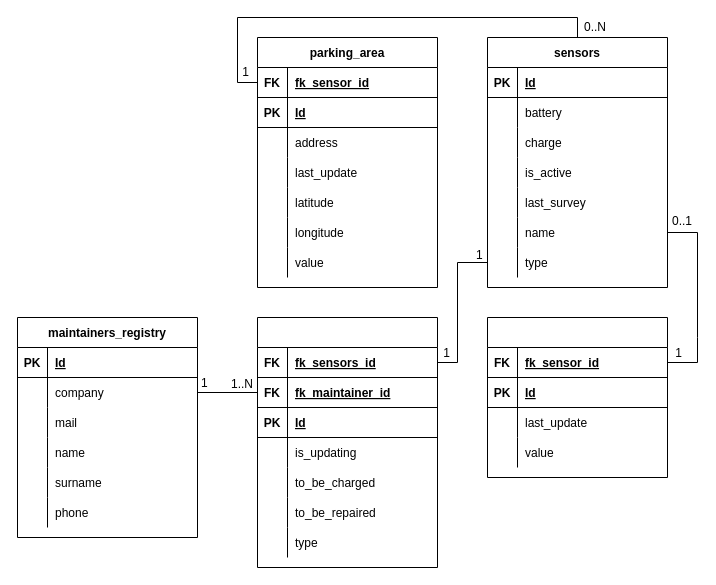
This 716x585 diagram has some shape labels left out. Each missing label, with the box of its shape:
parking_area_stats: (486, 316, 668, 478)
sensors_maintainer: (256, 316, 438, 568)
